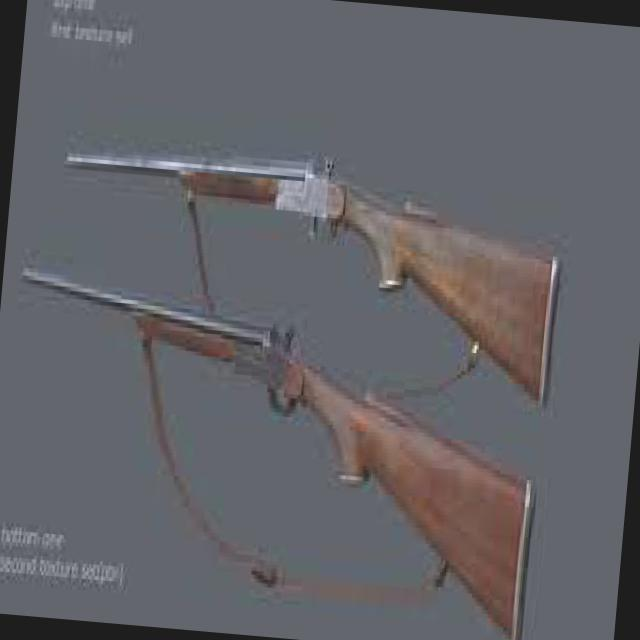long weapon: (10, 249, 552, 640), (45, 132, 596, 282)
